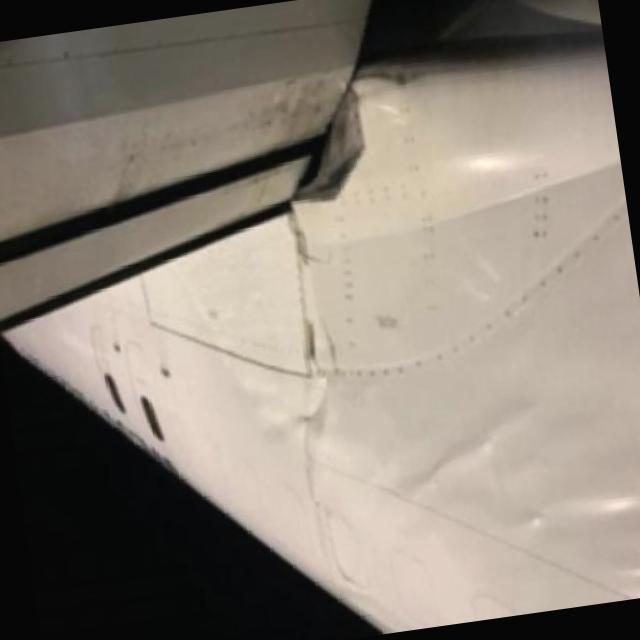dent: (378, 428, 512, 532), (236, 353, 338, 457), (527, 476, 640, 546), (451, 147, 537, 207), (610, 534, 640, 599)
